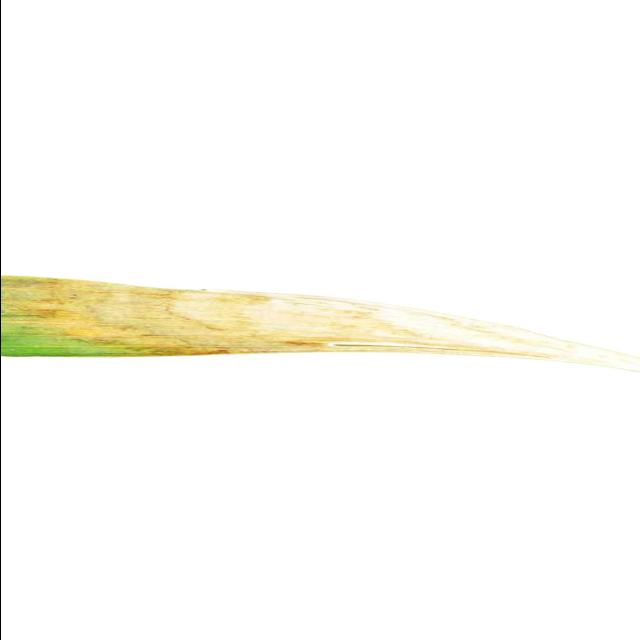Leaf scald: (0, 264, 640, 534)
